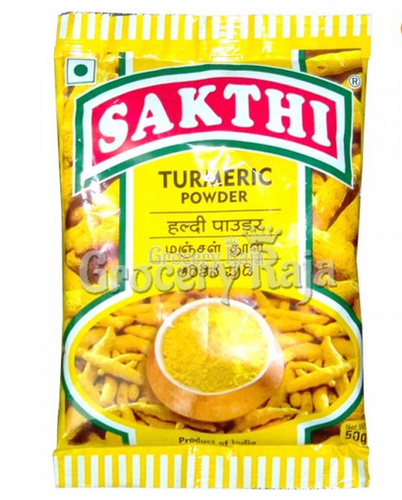VEG: (65, 57, 97, 87)
